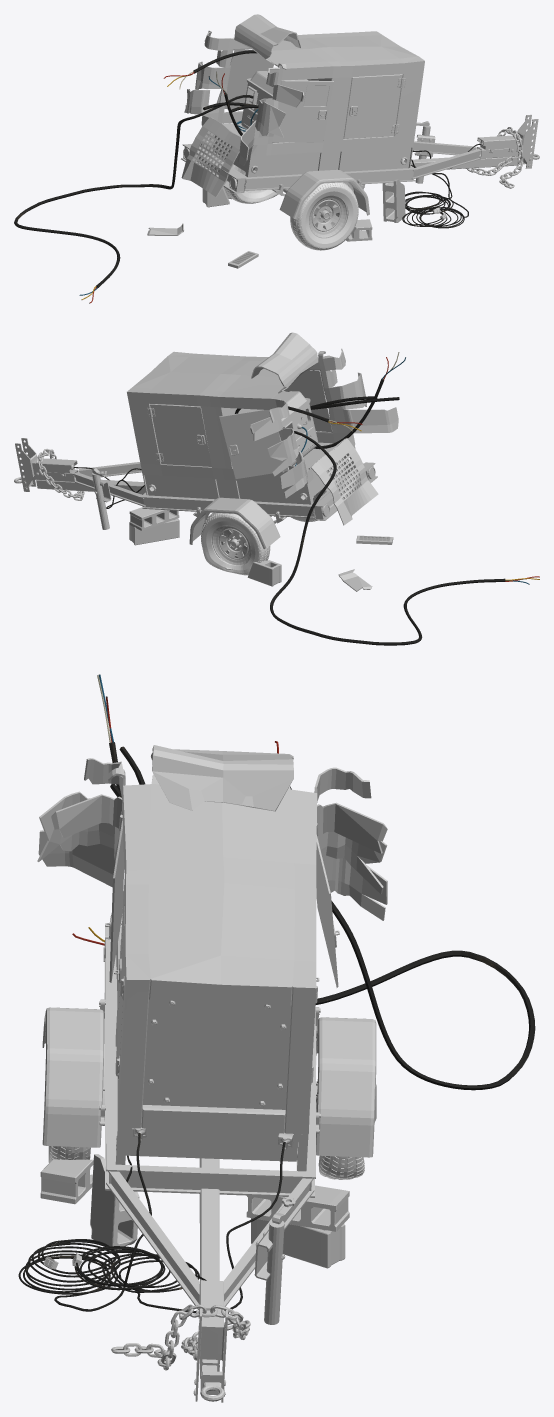
File: KB3D_DMZ_Trailer_C.fbx
3 views of the same model, one above another, from view 1: azimuth 30°, elevation 25°; view 2: azimuth 150°, elevation 25°; view 3: azimuth 270°, elevation 25° (orthographic). The views are drawn at different scales.
Parts seen in each view (by area): view 1: KB3D_DMZ_Trailer_C_Main; view 2: KB3D_DMZ_Trailer_C_Main; view 3: KB3D_DMZ_Trailer_C_Main.
Part boxes in pixels (bbox=[...]): KB3D_DMZ_Trailer_C_Main: bbox=[14, 14, 539, 303]; KB3D_DMZ_Trailer_C_Main: bbox=[14, 332, 539, 645]; KB3D_DMZ_Trailer_C_Main: bbox=[18, 674, 535, 1402].
Size of the model in its own units: 591 by 243 by 271.
